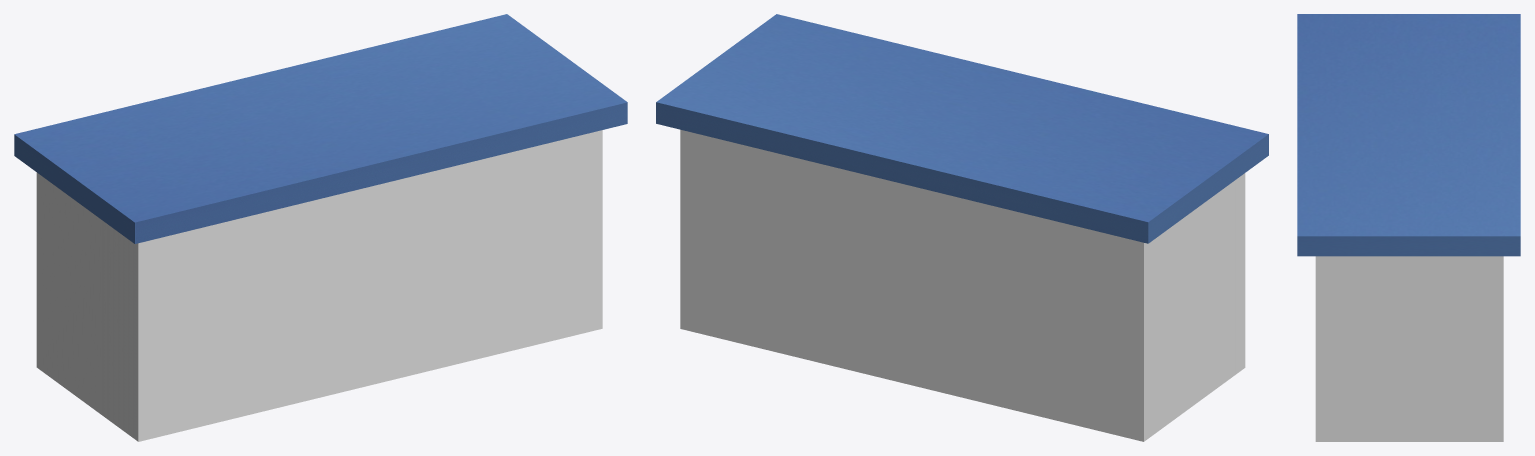
The model's file is Mesa.obj.
The picture shows the model from 3 angles, left to right: view 1: azimuth 30°, elevation 25°; view 2: azimuth 150°, elevation 25°; view 3: azimuth 270°, elevation 25°; orthographic projection. The views are drawn at different scales.
Visible parts, largest first — view 1: Cube.010; view 2: Cube.010; view 3: Cube.010.
Boxes of the visible parts, x1,y1,x2,y2 form: Cube.010: [14, 14, 627, 441]; Cube.010: [656, 14, 1268, 441]; Cube.010: [1297, 14, 1520, 441].
Bounding box in the file's own units: 2.12 × 0.9467 × 0.9007.
4 materials, 4 textured.
